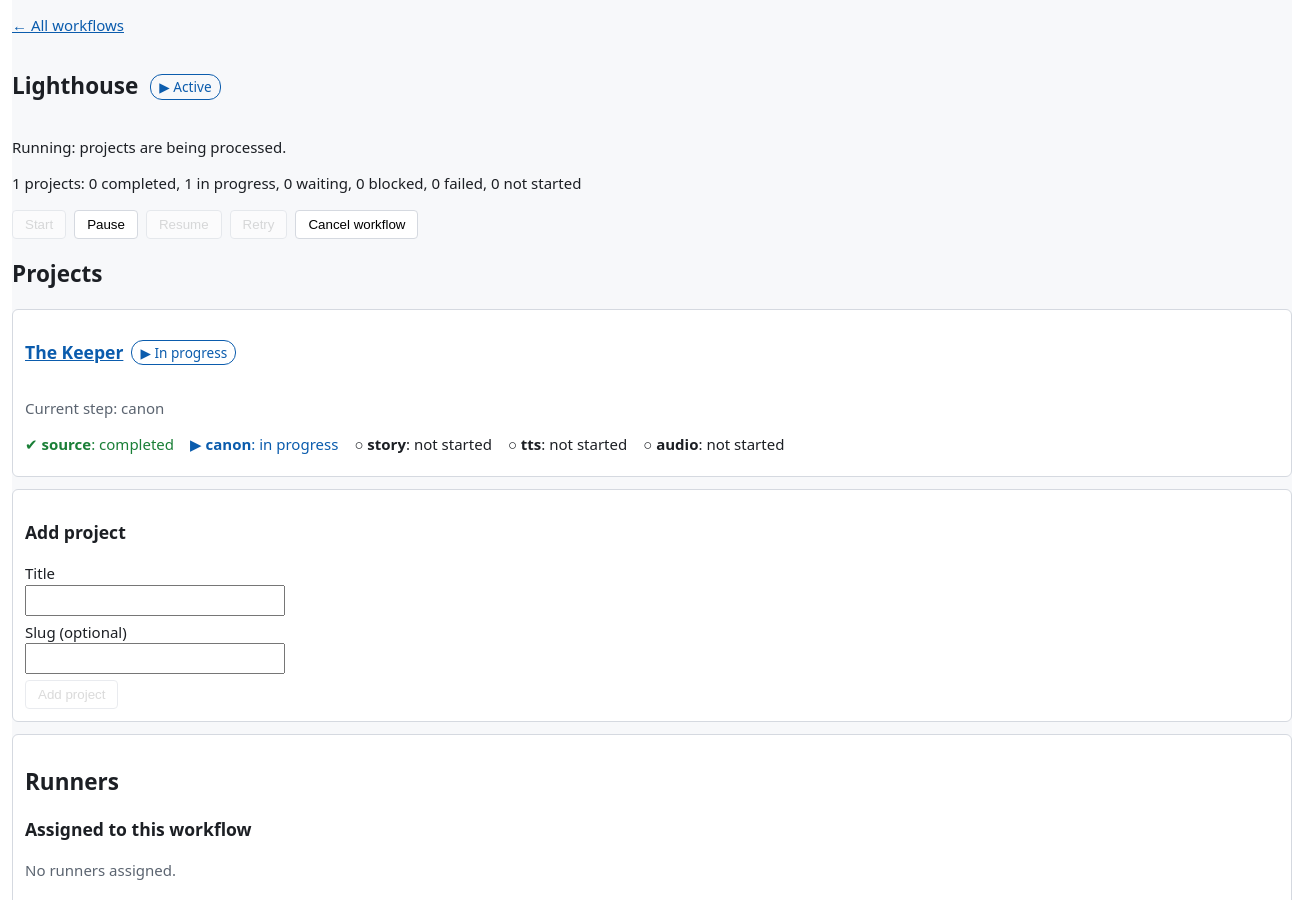
commands and forms › add project without slug omits it; error shown inline
Expected: the heading "Lighthouse" is shown, [12,70,138,103]
Type "T" into the field labelled "Title" at (155, 600), box [25,584,285,616]
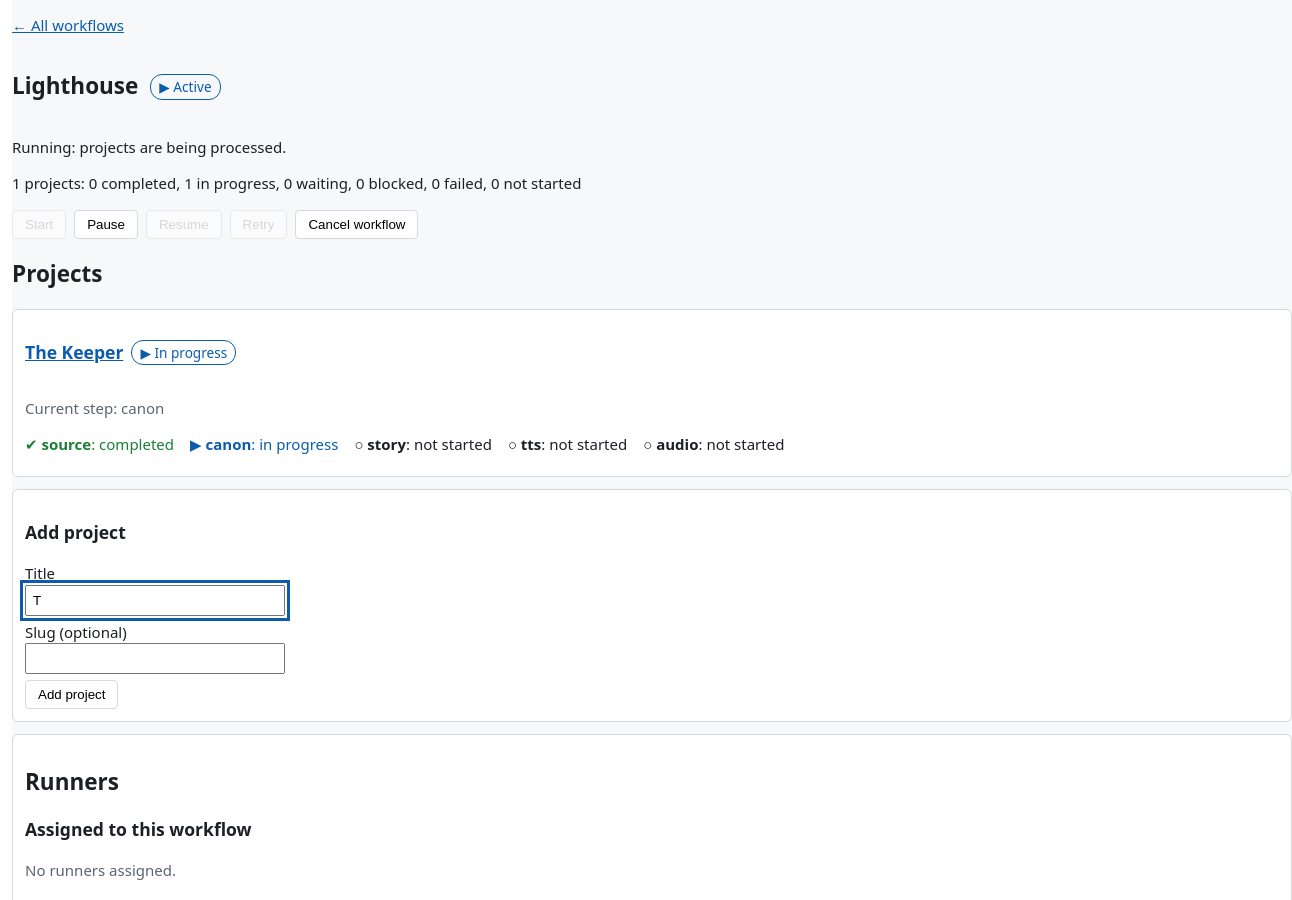
Click the button "Add project" at (72, 695), box [25,680,118,709]
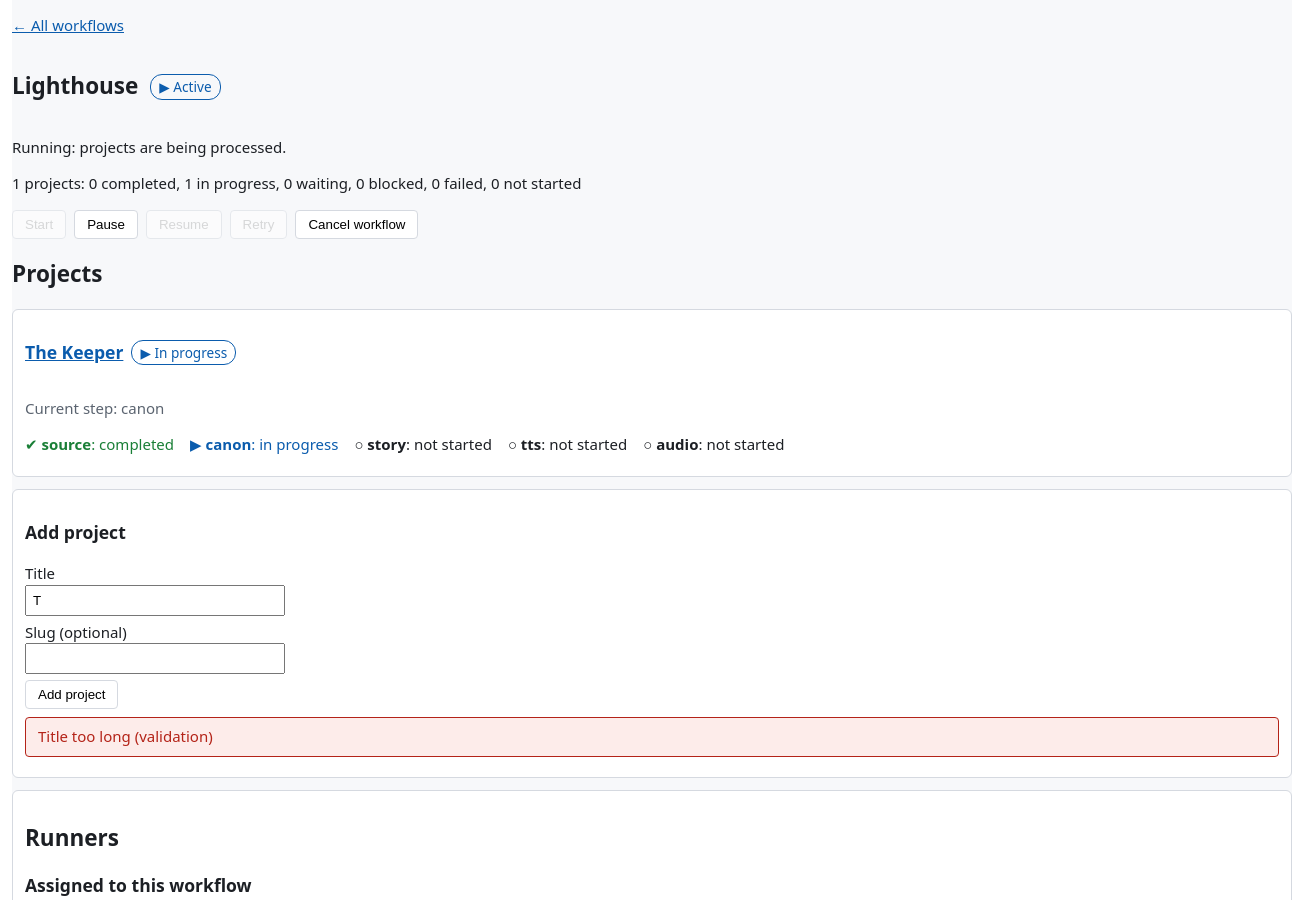
Expected: the message shows "Title too long", [38,726,213,746]
